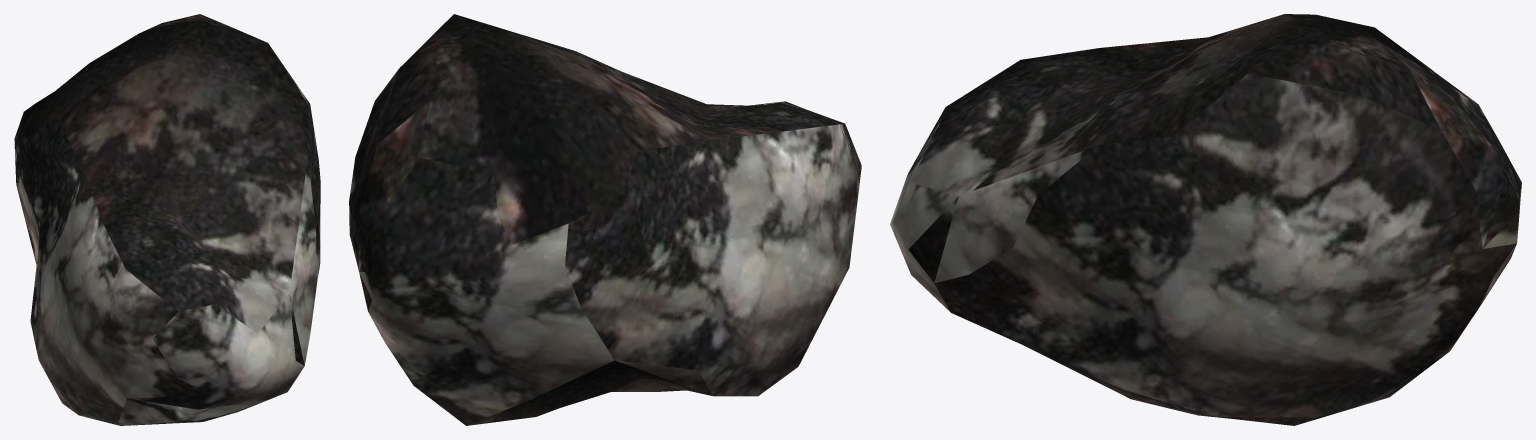
The model's file is BLACKERZ_NUGGET.glb.
3 views of the same model, side by side, from view 1: azimuth 30°, elevation 25°; view 2: azimuth 150°, elevation 25°; view 3: azimuth 270°, elevation 25° (orthographic). The views are drawn at different scales.
Visible parts, largest first — view 1: Mesh; view 2: Mesh; view 3: Mesh.
Part boxes in pixels (left/top/right/bottom): Mesh: left=14, top=14, right=320, bottom=425; Mesh: left=349, top=14, right=861, bottom=425; Mesh: left=890, top=14, right=1521, bottom=425.
Bounding box in the file's own units: 0.0946 × 0.094 × 0.134.
1 material, 1 textured.
